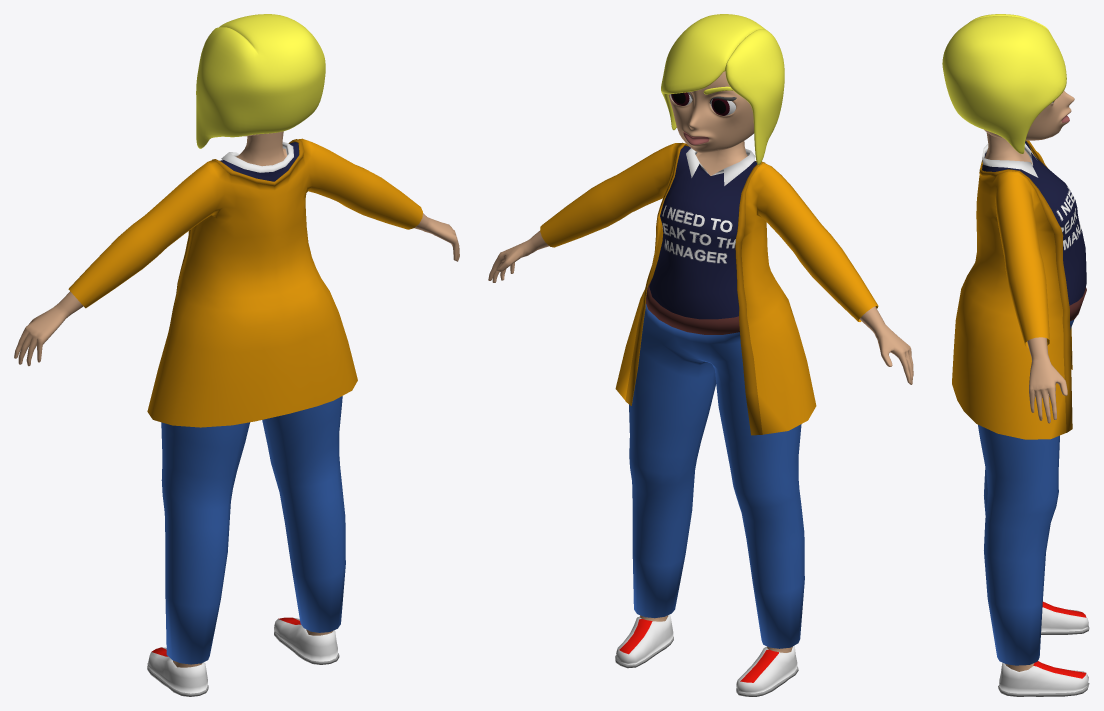
The model's file is Karen.fbx.
3 views of the same model, side by side, from view 1: azimuth 30°, elevation 25°; view 2: azimuth 150°, elevation 25°; view 3: azimuth 270°, elevation 25° (orthographic). The views are drawn at different scales.
Parts seen in each view (by area): view 1: coat, pants, hairs, body, shoe, shirt; view 2: pants, coat, shirt, hairs, shoe, head, body; view 3: coat, pants, hairs, shirt, shoe, body, head.
Boxes of the visible parts, bbox=[...] form: coat: bbox=[68, 138, 422, 427]; pants: bbox=[161, 396, 345, 664]; hairs: bbox=[196, 14, 325, 148]; body: bbox=[14, 131, 459, 667]; shoe: bbox=[147, 617, 339, 696]; shirt: bbox=[220, 142, 298, 181]; pants: bbox=[629, 280, 804, 648]; coat: bbox=[540, 142, 878, 435]; shirt: bbox=[649, 145, 756, 319]; hairs: bbox=[661, 14, 784, 165]; shoe: bbox=[615, 614, 798, 696]; head: bbox=[668, 71, 753, 152]; body: bbox=[488, 141, 913, 652]; coat: bbox=[952, 140, 1072, 439]; pants: bbox=[978, 287, 1086, 665]; hairs: bbox=[942, 14, 1066, 153]; shirt: bbox=[982, 140, 1086, 305]; shoe: bbox=[998, 601, 1089, 696]; body: bbox=[985, 132, 1067, 671]; head: bbox=[984, 90, 1074, 140].
Bounding box in the file's own units: 1.1 × 0.3284 × 1.57.
